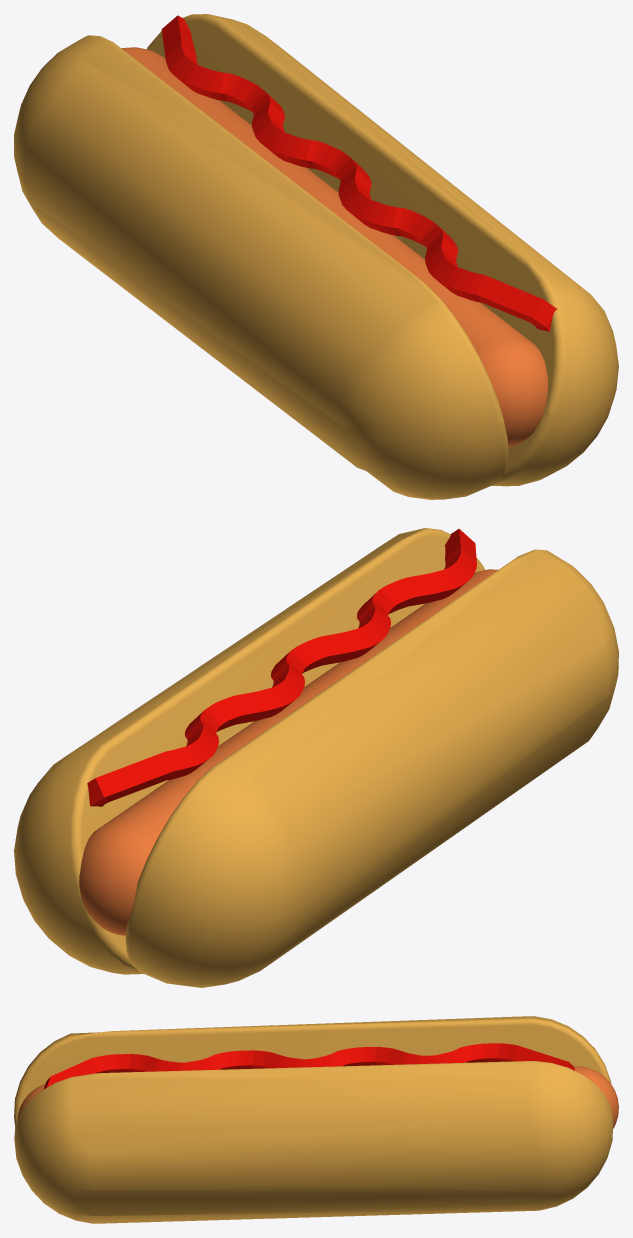
Rendered from hotdog3.glb.
3 views of the same model, one above another, from view 1: azimuth 30°, elevation 25°; view 2: azimuth 150°, elevation 25°; view 3: azimuth 270°, elevation 25° (orthographic). The views are drawn at different scales.
Visible parts, largest first — view 1: Sphere, Plane.001, Sphere.001; view 2: Sphere, Plane.001, Sphere.001; view 3: Sphere, Plane.001, Sphere.001.
Boxes of the visible parts, bbox=[...] form: Sphere: bbox=[14, 14, 618, 499]; Plane.001: bbox=[161, 15, 557, 331]; Sphere.001: bbox=[121, 47, 547, 446]; Sphere: bbox=[14, 528, 618, 987]; Plane.001: bbox=[87, 529, 476, 806]; Sphere.001: bbox=[79, 569, 497, 935]; Sphere: bbox=[14, 1016, 613, 1223]; Plane.001: bbox=[44, 1043, 574, 1088]; Sphere.001: bbox=[17, 1066, 618, 1128].
Bounding box in the file's own units: 2.62 × 2.14 × 7.04.
